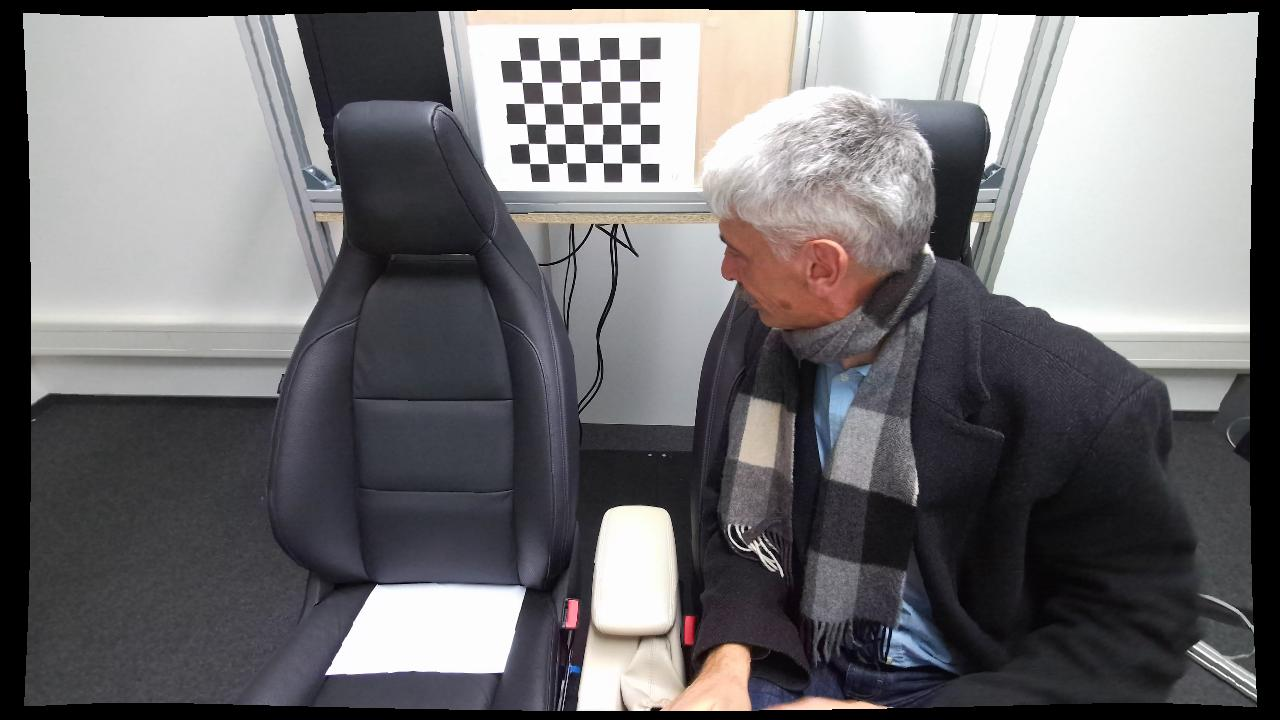Distracted: (662, 84, 1167, 710)
